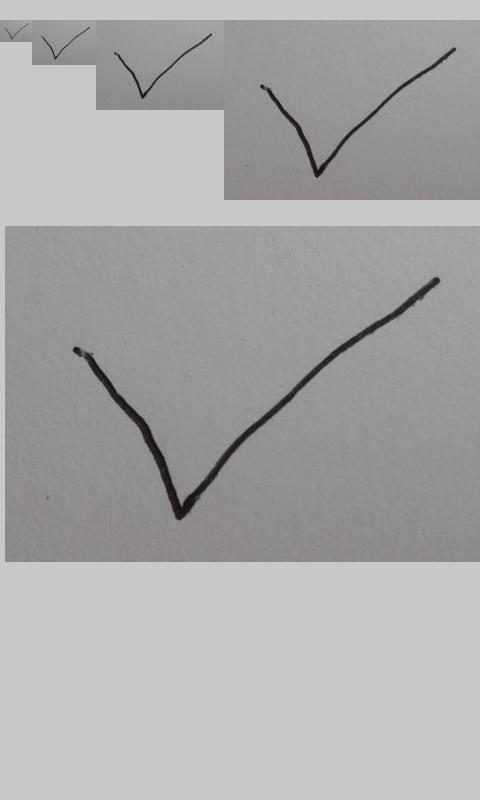check_box: (75, 275, 440, 520), (259, 46, 456, 179), (114, 33, 212, 99), (41, 27, 90, 59), (4, 23, 29, 39)
